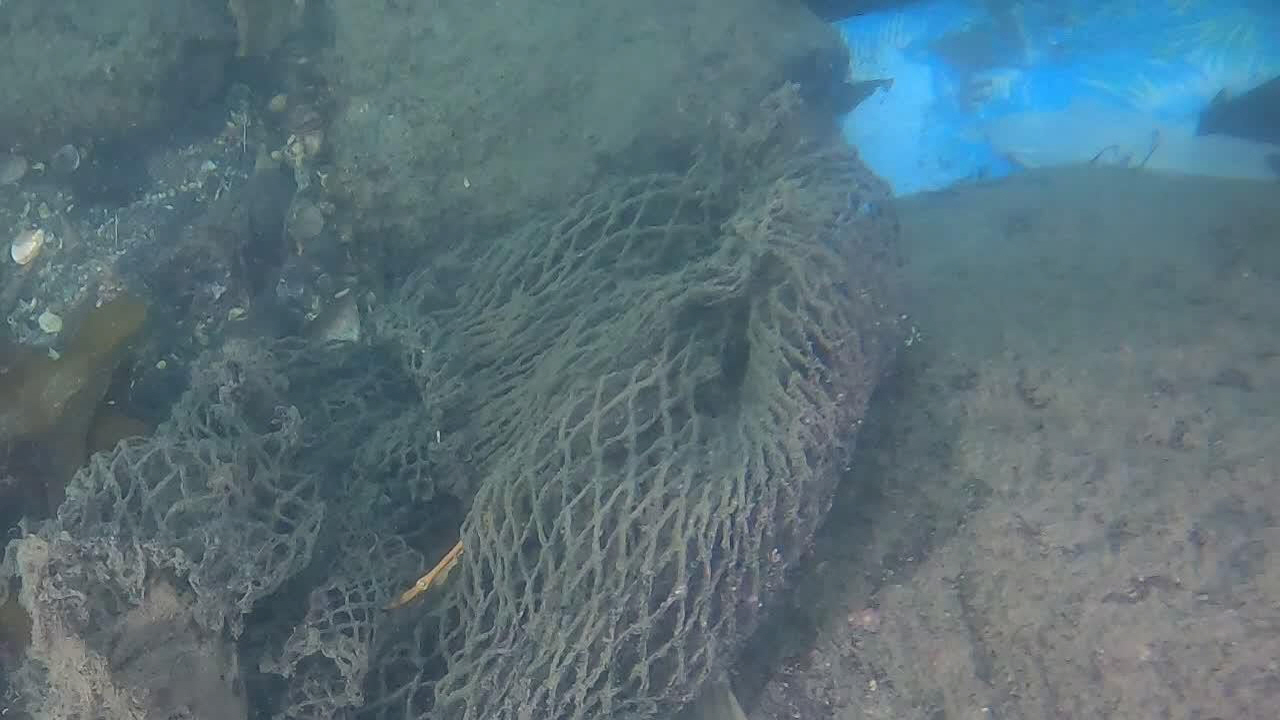fish net: (0, 85, 895, 720)
